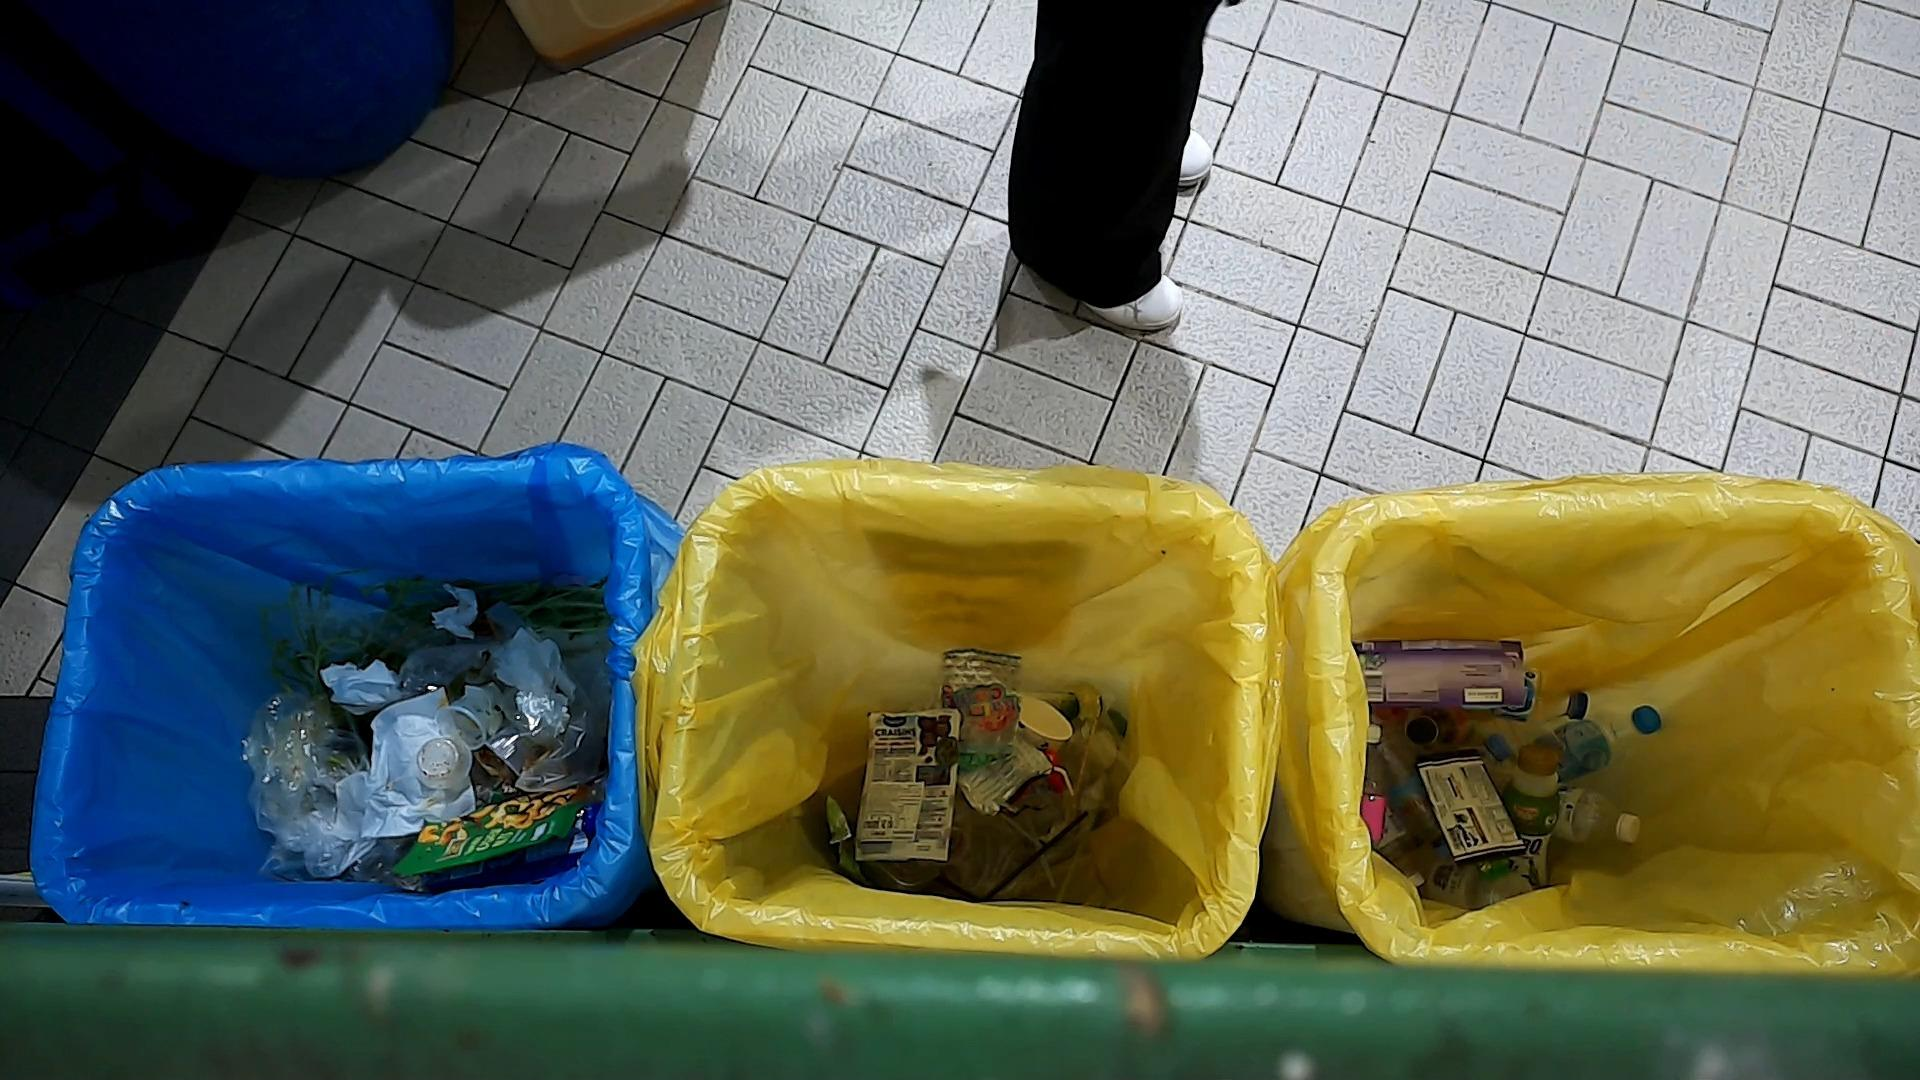food container: (434, 692, 497, 752), (414, 736, 473, 790)
plastic bag: (232, 692, 344, 860)
plastic bottle: (1535, 696, 1664, 781), (1498, 738, 1568, 891)
snack packaging: (851, 707, 969, 873), (393, 785, 587, 886), (1352, 634, 1532, 709), (936, 644, 1033, 775), (1415, 760, 1532, 862)
straw: (978, 804, 1089, 902)
tissue paper: (336, 686, 472, 835), (488, 626, 572, 698), (315, 655, 402, 716), (427, 582, 480, 644)
